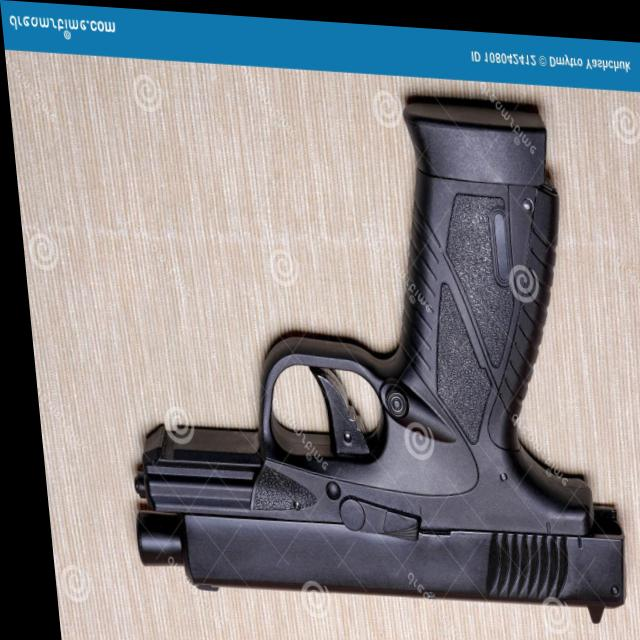handgun: (84, 73, 619, 615)
